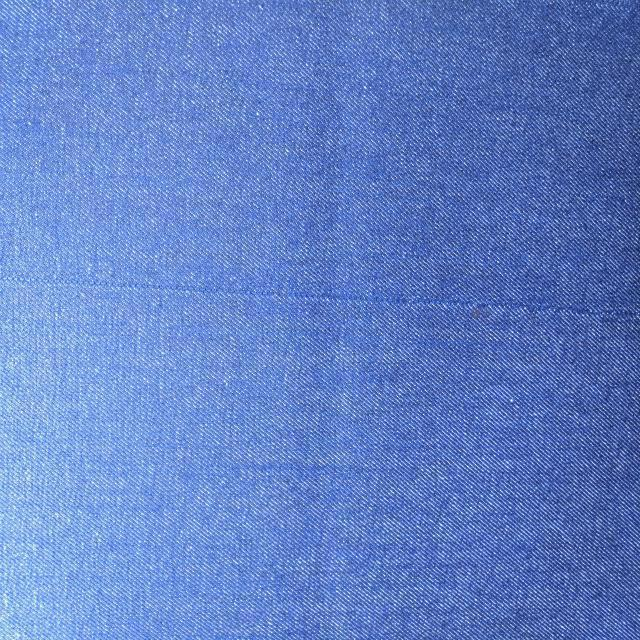Line: (0, 270, 640, 325)
